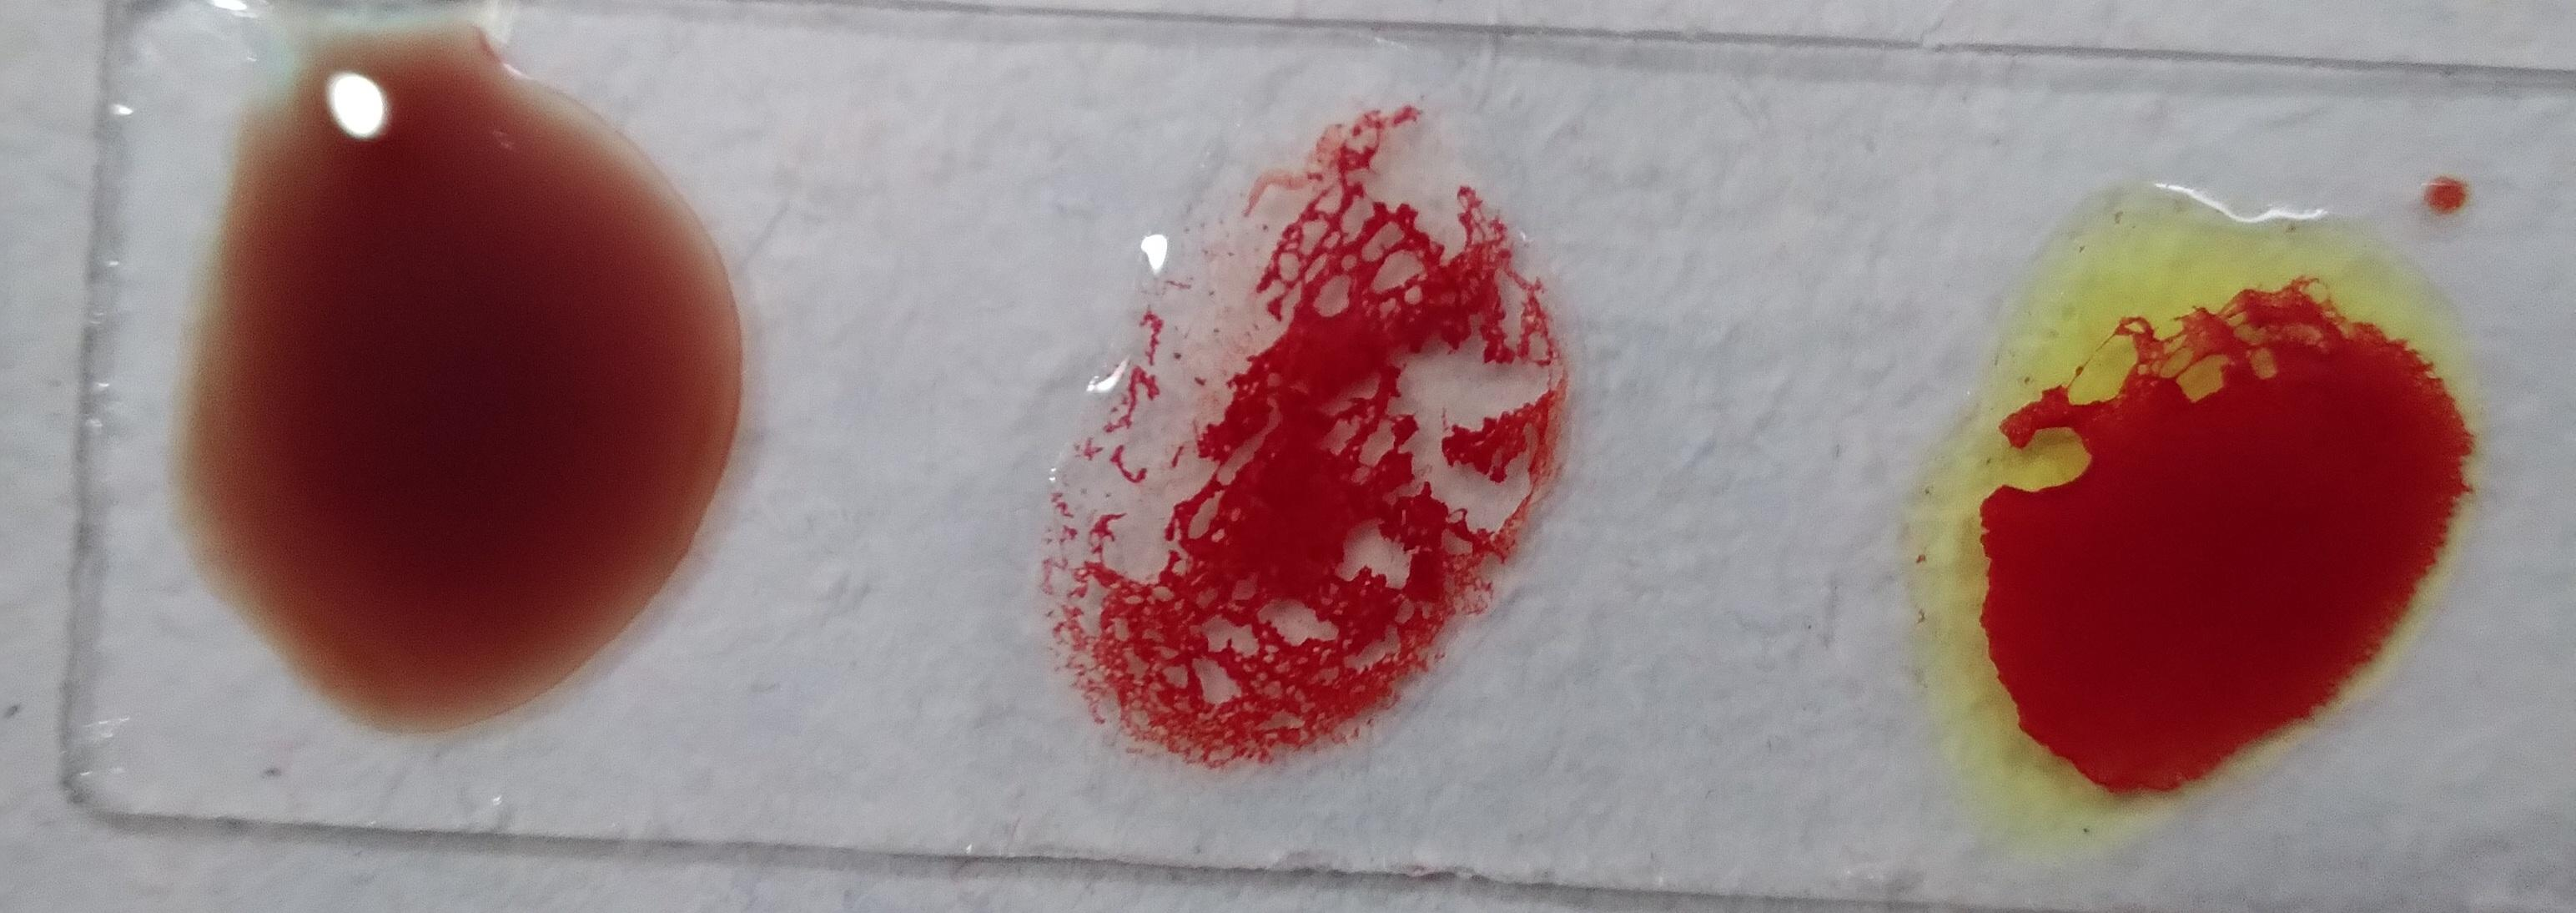B: (112, 77, 639, 737)
D: (1015, 141, 1534, 810)
